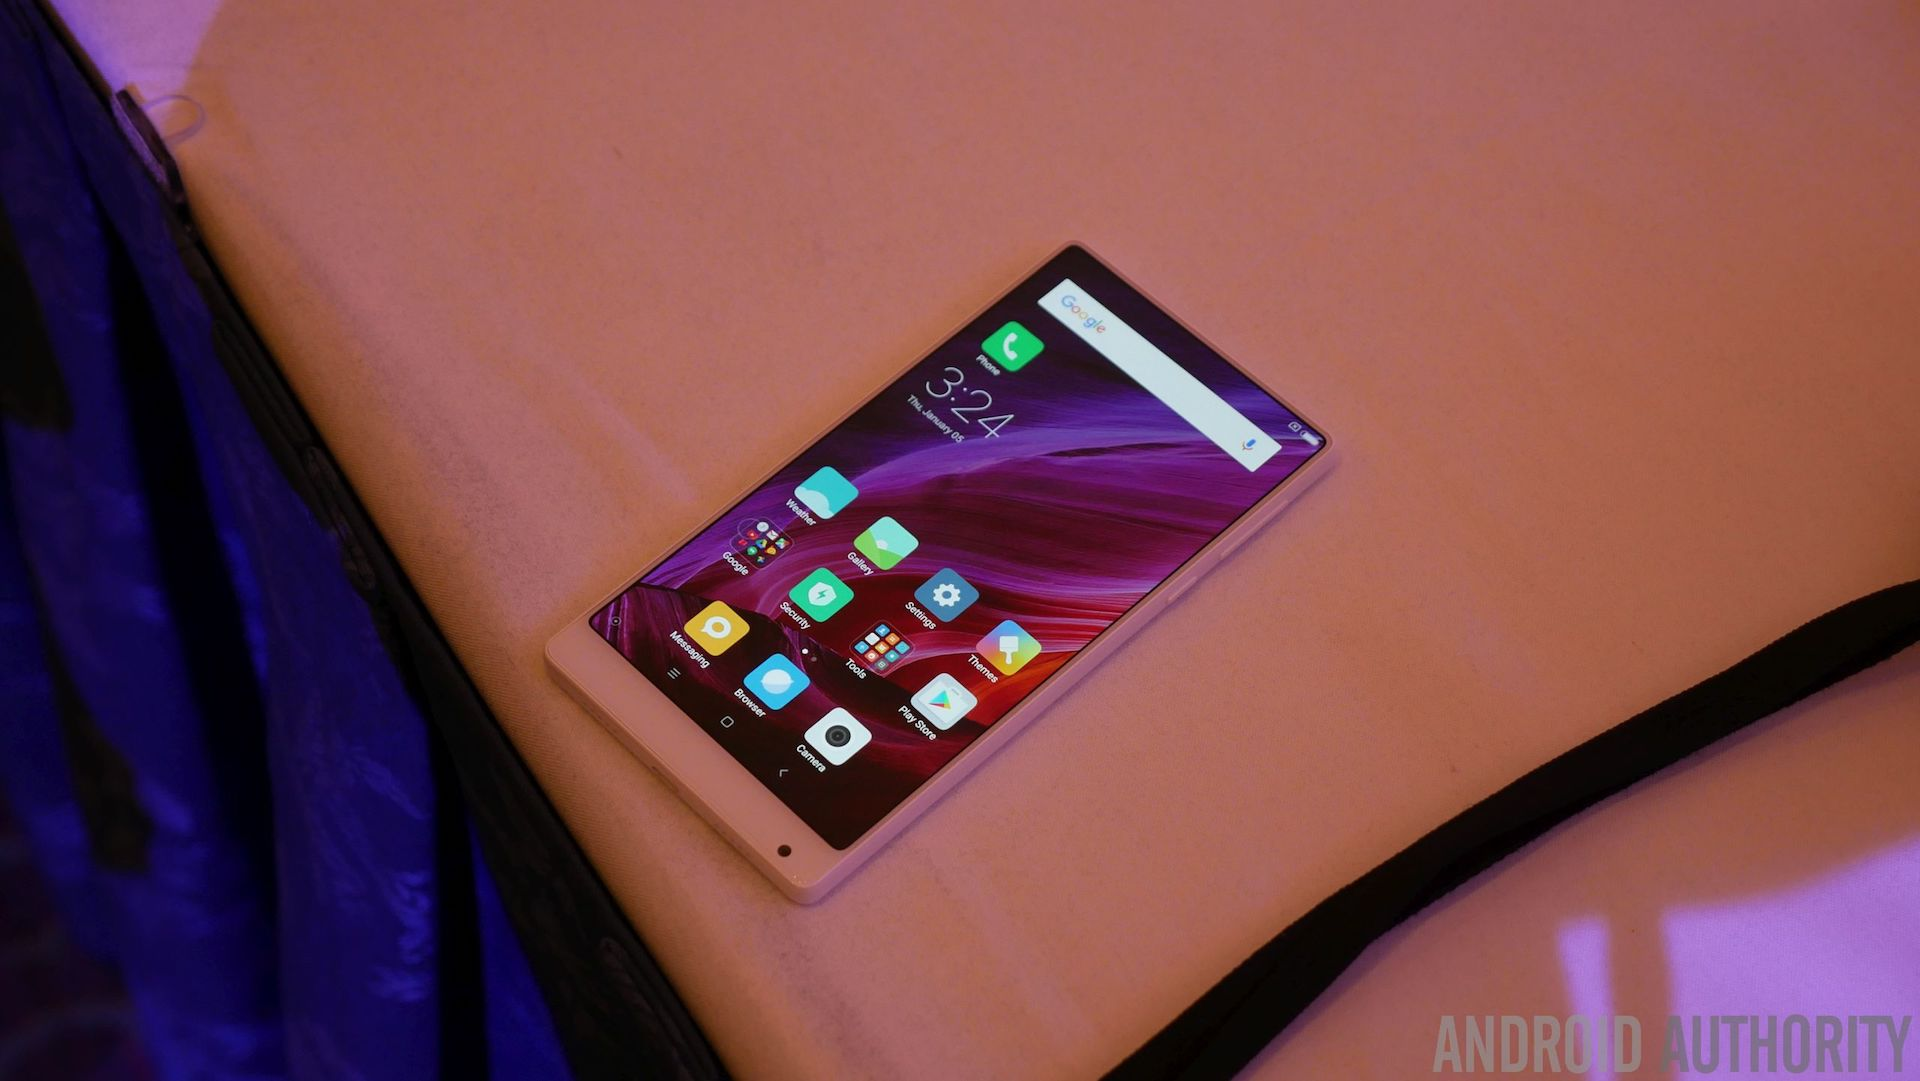smartphone: (539, 239, 1342, 907)
